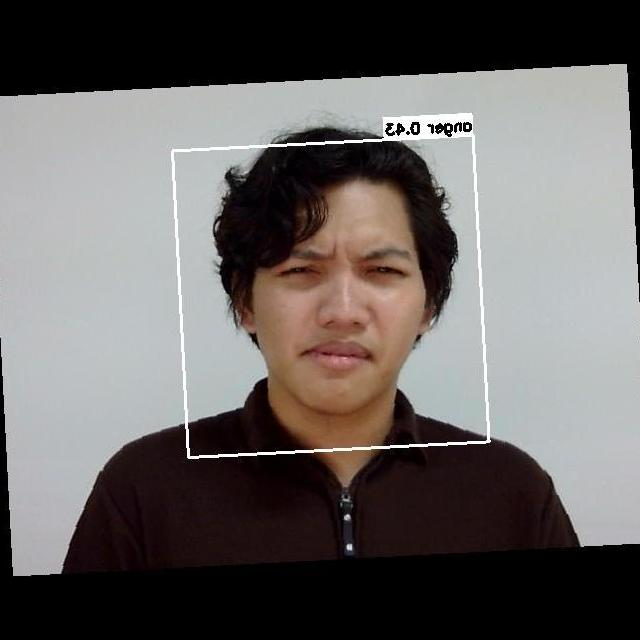Disgust: (245, 228, 438, 388)
